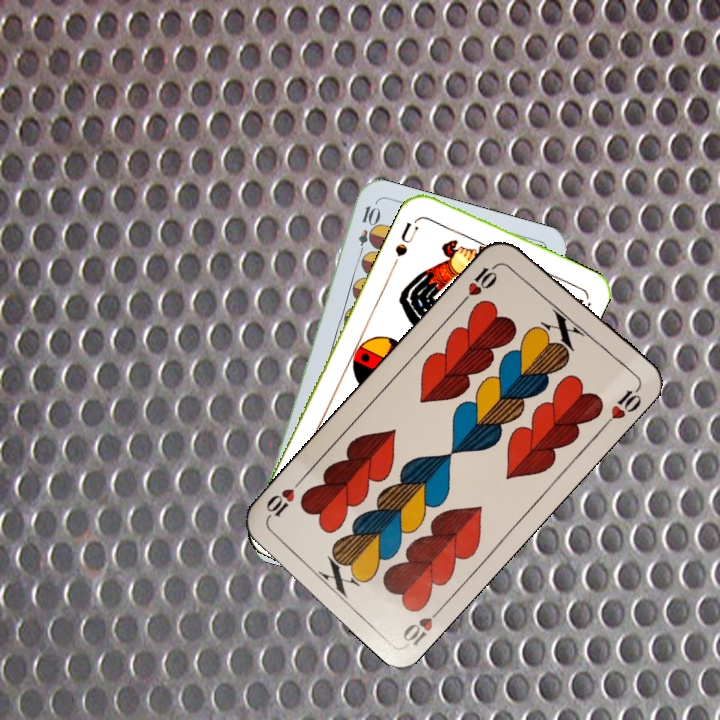E10: (354, 202, 380, 261)
H10: (398, 600, 448, 650), (458, 259, 503, 306)
SU: (391, 218, 422, 260)
